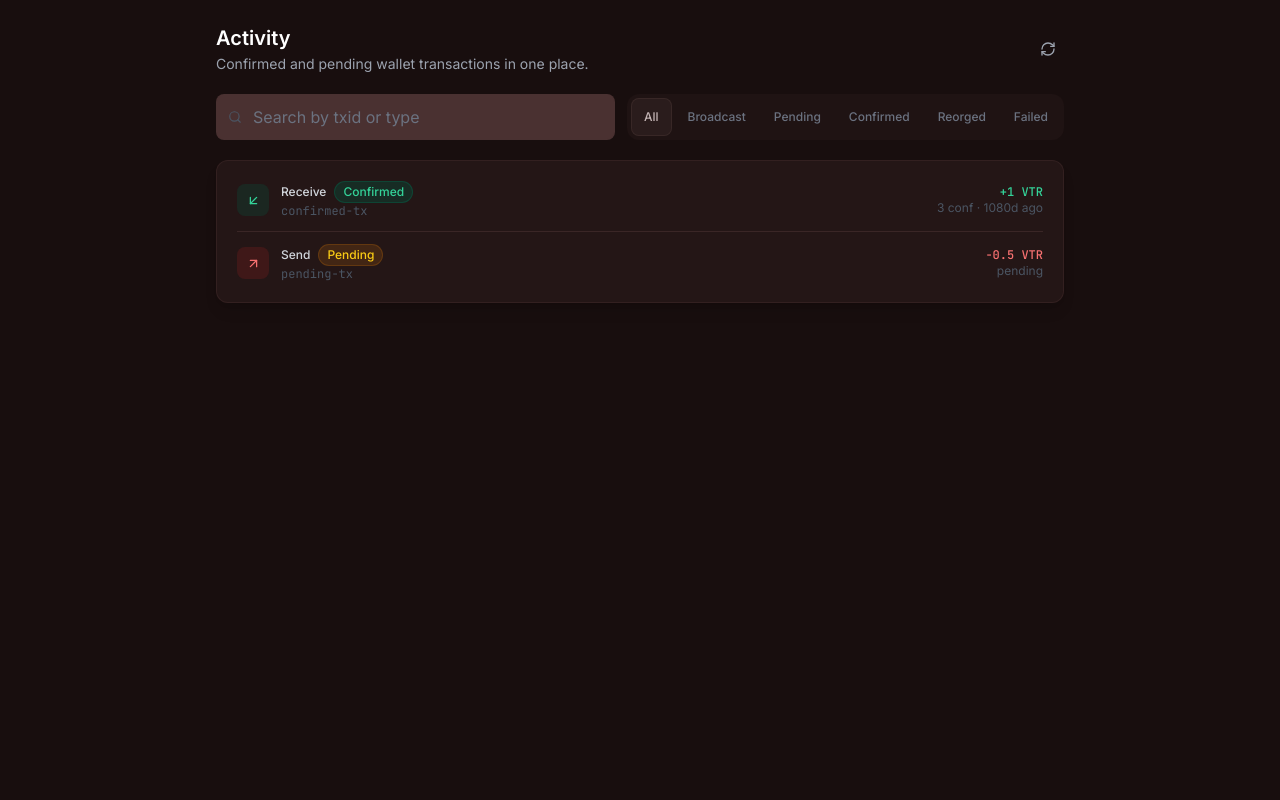
Test: activity page › shows confirmed and pending activity and opens details
Check: the text "confirmed-tx" is shown, box left=281, top=203, right=367, bottom=219
Check: the text "pending-tx" is shown, box left=281, top=266, right=353, bottom=282
Step 1. Click the button "send Pending pending-tx -0.5 VTR pending" → (253, 263), box left=237, top=231, right=1043, bottom=282
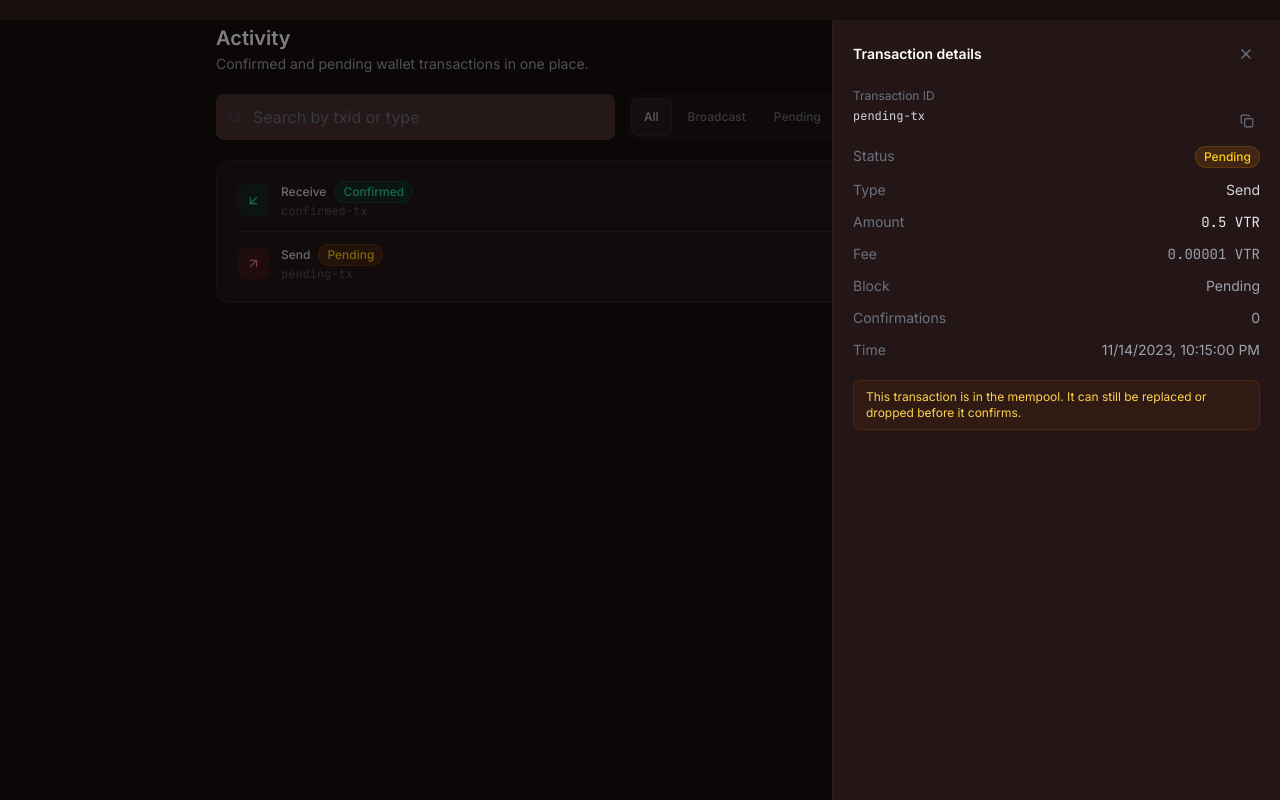
Check: the heading "Transaction details" is shown, box left=853, top=44, right=982, bottom=64
Check: the text "This transaction is in the mempool" is shown, box left=866, top=389, right=1207, bottom=420
